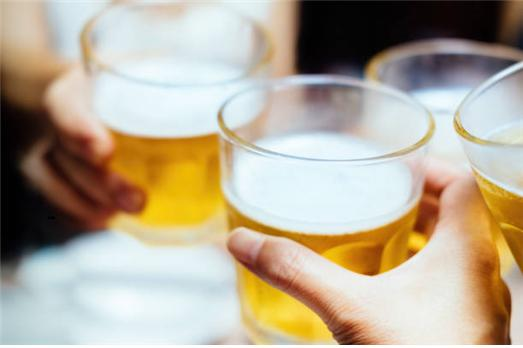alcohol: (215, 75, 430, 348), (77, 0, 277, 250), (362, 41, 523, 291), (451, 61, 523, 276)
